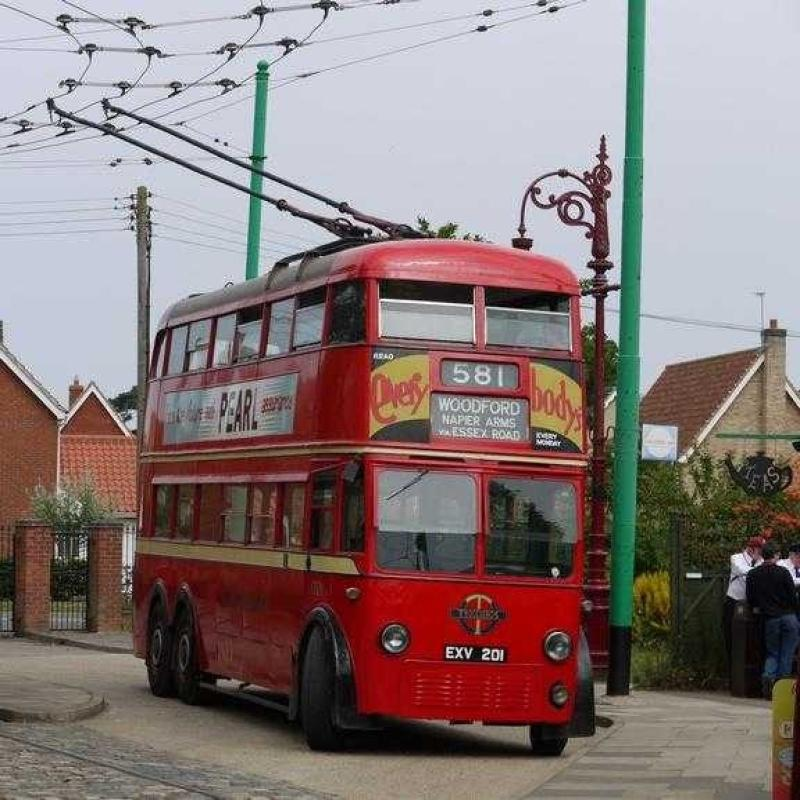bus: (140, 221, 622, 762)
